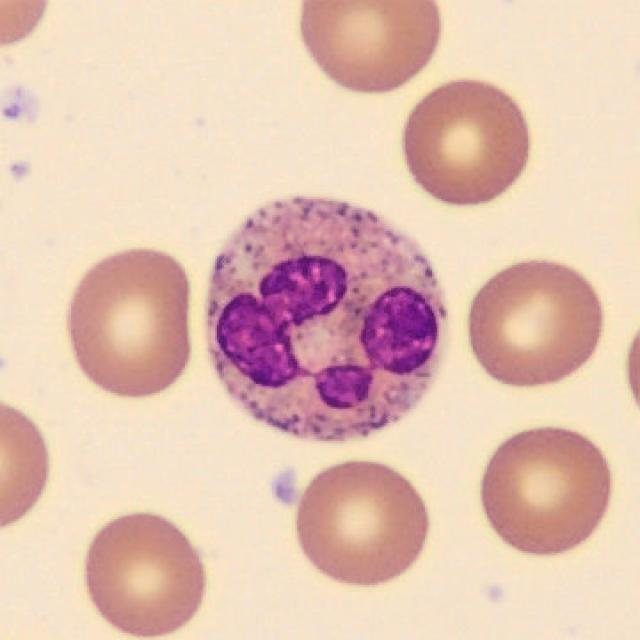Neutrofilo segmentado: (208, 197, 446, 443)
